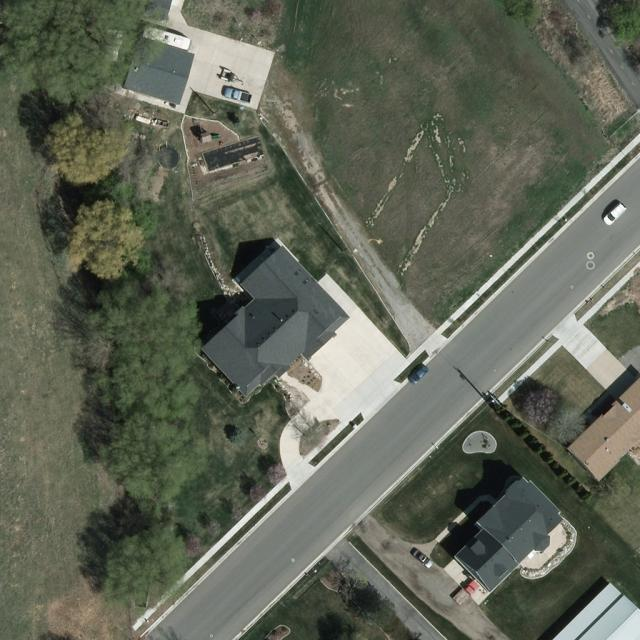vehicle: (453, 581, 478, 606), (604, 202, 628, 226), (222, 86, 252, 105), (410, 548, 433, 570), (408, 364, 430, 386)
